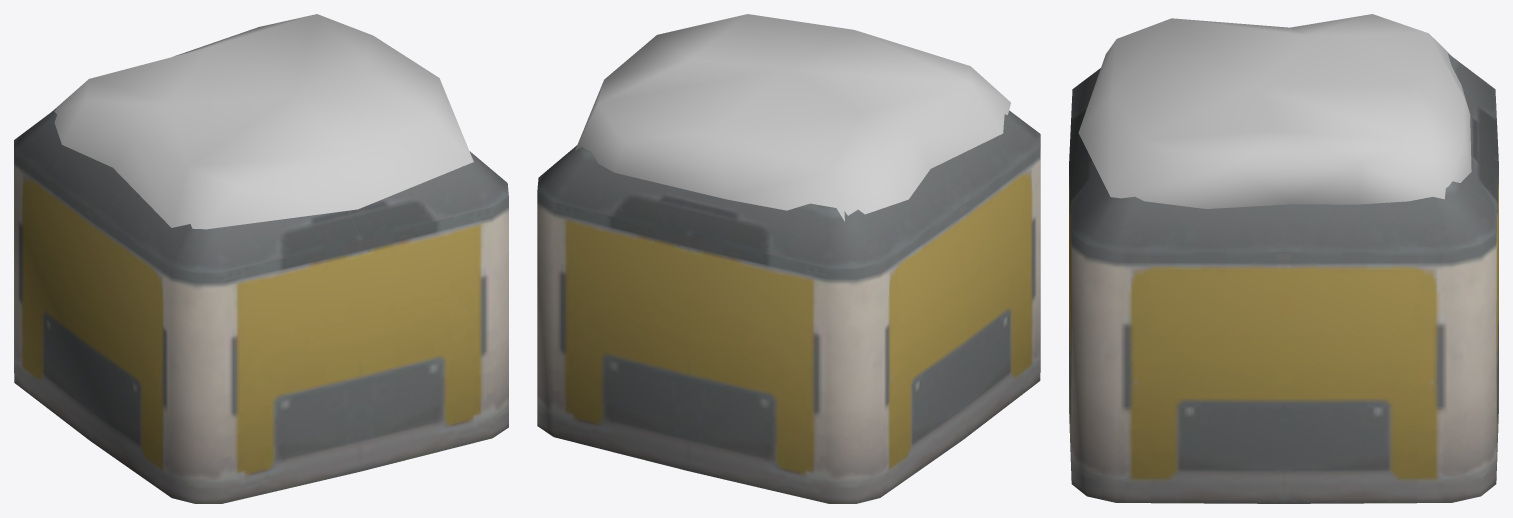
The model's file is pref_sm_city_box01_snow_lv3.fbx.
The picture shows the model from 3 angles, left to right: view 1: azimuth 30°, elevation 25°; view 2: azimuth 150°, elevation 25°; view 3: azimuth 270°, elevation 25°; orthographic projection. The views are drawn at different scales.
Visible parts, largest first — view 1: sm_city_box01_snow_lv3, sm_city_box01b_snow_lv3; view 2: sm_city_box01_snow_lv3, sm_city_box01b_snow_lv3; view 3: sm_city_box01_snow_lv3, sm_city_box01b_snow_lv3.
Part boxes in pixels (left/top/right/bottom): sm_city_box01_snow_lv3: left=14, top=108, right=508, bottom=503; sm_city_box01b_snow_lv3: left=52, top=14, right=473, bottom=229; sm_city_box01_snow_lv3: left=537, top=110, right=1040, bottom=503; sm_city_box01b_snow_lv3: left=575, top=14, right=1010, bottom=221; sm_city_box01_snow_lv3: left=1069, top=54, right=1498, bottom=503; sm_city_box01b_snow_lv3: left=1078, top=14, right=1471, bottom=208.
Bounding box in the file's own units: 1.13 × 0.9743 × 1.13.
